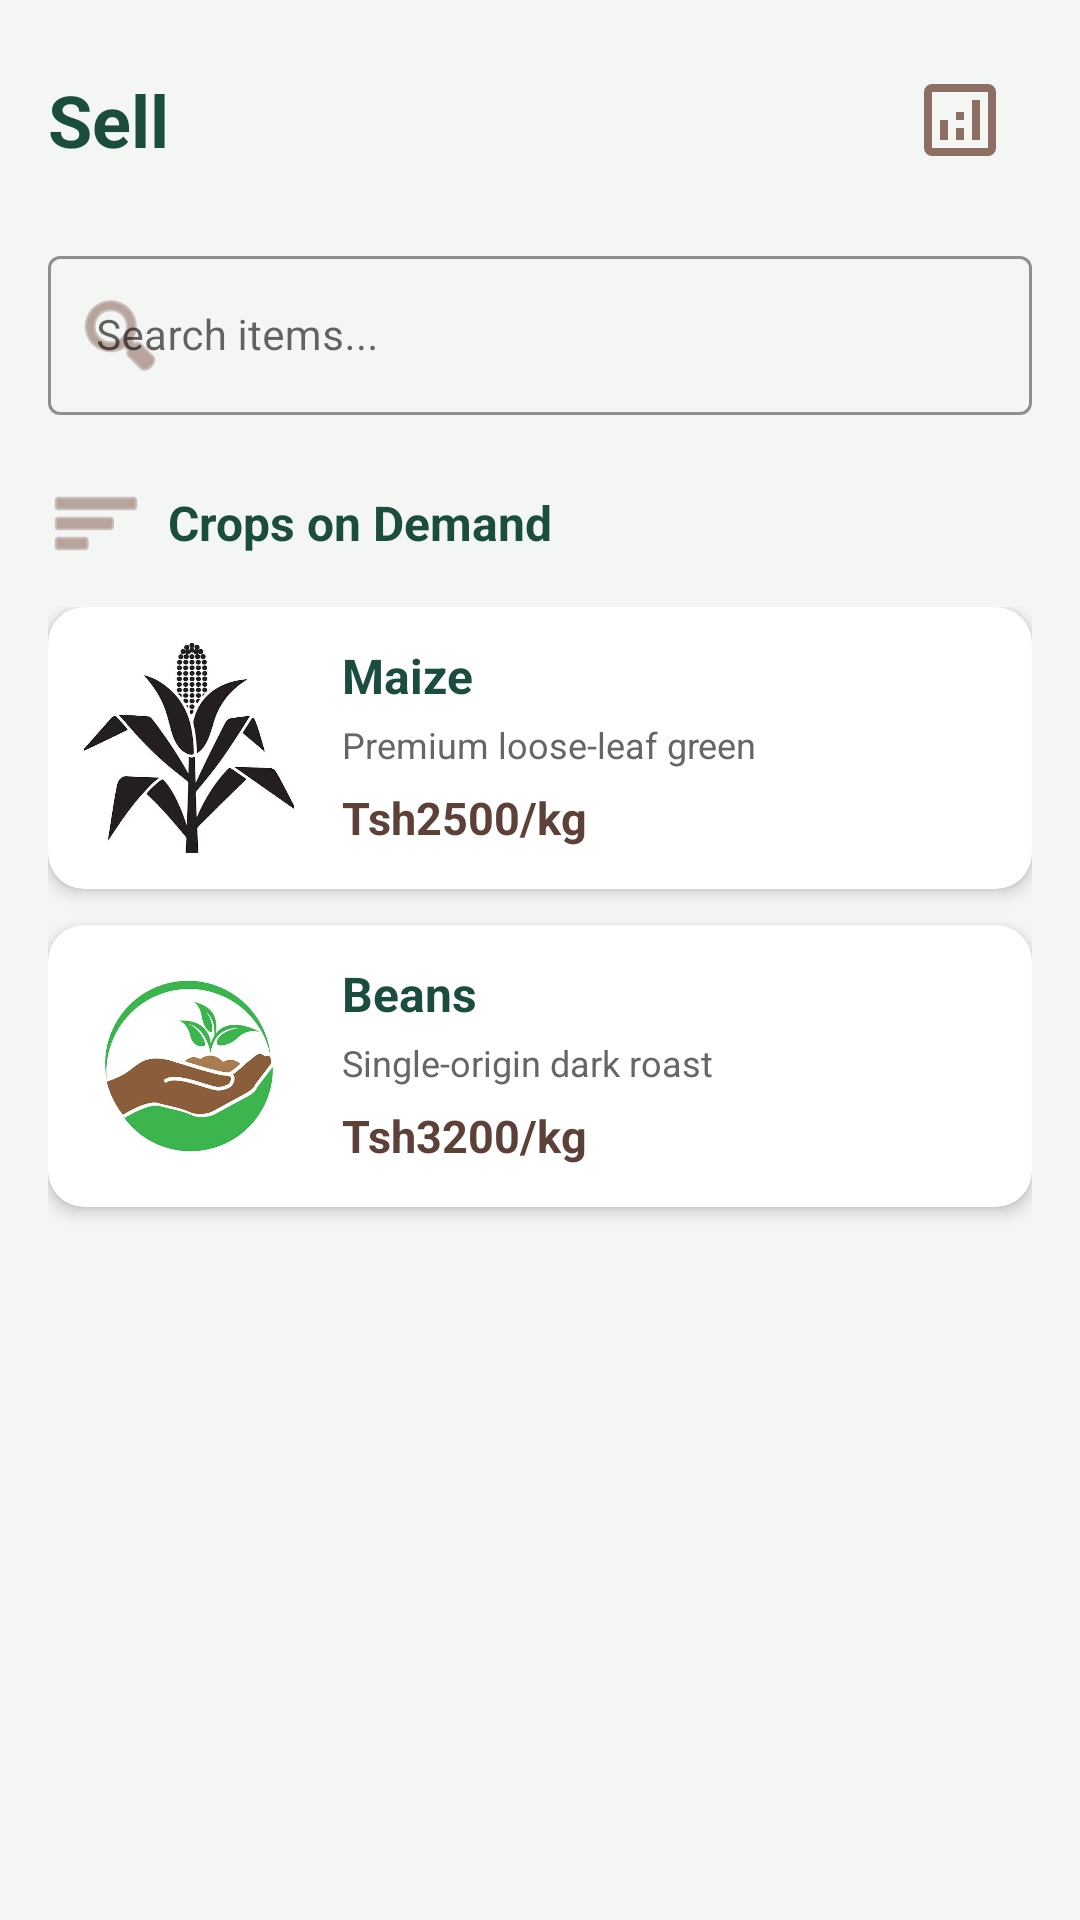

Locate icon controls on the screen. Image size 1080px×1920px, boxes as (x1,y1,x2,y2).
mahindi: (84,643,294,853)
